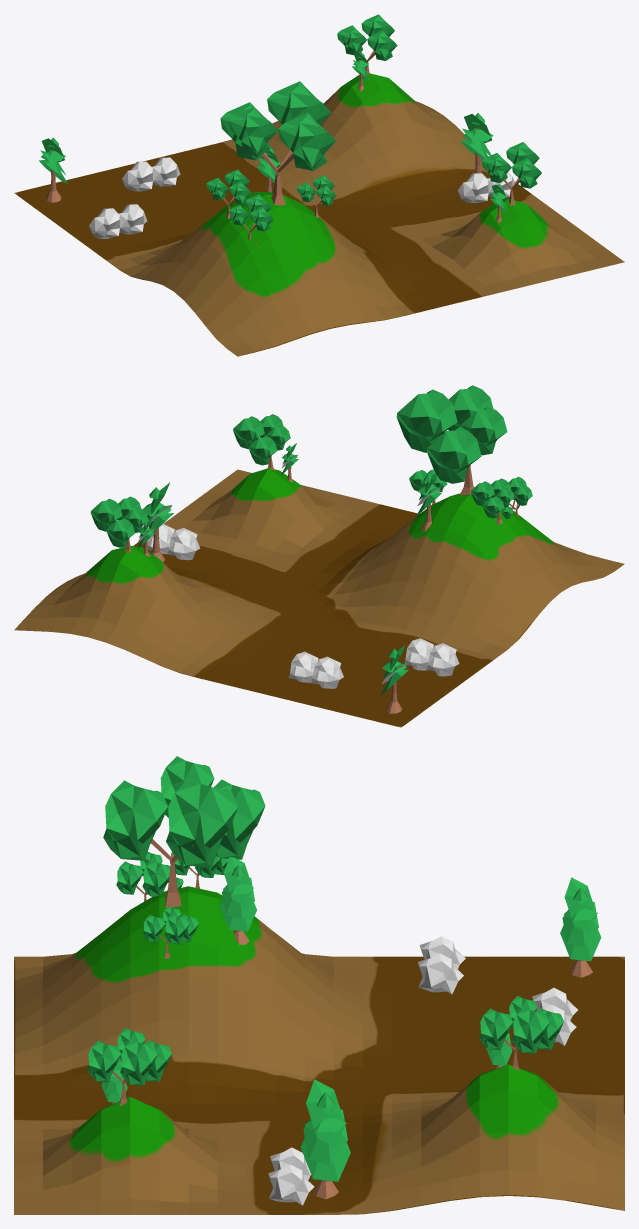
The model's file is lowpoly.glb.
The picture shows the model from 3 angles, top to bottom: view 1: azimuth 30°, elevation 25°; view 2: azimuth 150°, elevation 25°; view 3: azimuth 270°, elevation 25°; orthographic projection. The views are drawn at different scales.
Parts seen in each view (by area): view 1: Plane, Icosphere.008, Icosphere.007, Icosphere.010, Icosphere.003, Icosphere, Icosphere.005, Icosphere.009, Icosphere.002, Icosphere.012, Tree2.003; view 2: Plane, Icosphere.007, Icosphere.009, Icosphere.003, Icosphere, Icosphere.010, Icosphere.005, Icosphere.008, Icosphere.011, Icosphere.001, Icosphere.013, Icosphere.004; view 3: Plane, Icosphere.007, Icosphere.008, Icosphere.009, Icosphere.003, Icosphere.005, Icosphere.010, Cylinder.009, Icosphere.001, Icosphere.011, Icosphere, Icosphere.012 (+10 smaller).
Boxes of the visible parts, x1,y1,x2,y2 form: Plane: [14, 73, 624, 356]; Icosphere.008: [278, 112, 335, 170]; Icosphere.007: [267, 81, 331, 124]; Icosphere.010: [228, 107, 277, 156]; Icosphere.003: [89, 204, 147, 238]; Icosphere: [122, 157, 180, 191]; Icosphere.005: [457, 172, 514, 202]; Icosphere.009: [220, 102, 278, 160]; Icosphere.002: [367, 30, 397, 60]; Icosphere.012: [512, 158, 541, 188]; Tree2.003: [261, 150, 293, 205]; Plane: [14, 468, 624, 727]; Icosphere.007: [396, 389, 457, 452]; Icosphere.009: [427, 427, 481, 483]; Icosphere.003: [404, 638, 459, 676]; Icosphere: [288, 651, 343, 688]; Icosphere.010: [460, 407, 507, 455]; Icosphere.005: [147, 524, 200, 560]; Icosphere.008: [448, 385, 493, 430]; Icosphere.011: [233, 416, 264, 449]; Icosphere.001: [90, 498, 122, 531]; Icosphere.013: [249, 436, 277, 465]; Icosphere.004: [106, 518, 134, 547]; Plane: [14, 886, 624, 1214]; Icosphere.007: [166, 778, 237, 867]; Icosphere.008: [103, 780, 167, 860]; Icosphere.009: [214, 779, 265, 859]; Icosphere.003: [418, 936, 465, 994]; Icosphere.005: [268, 1147, 314, 1205]; Icosphere.010: [160, 756, 214, 817]; Cylinder.009: [306, 1079, 344, 1148]; Icosphere.001: [512, 1007, 549, 1053]; Icosphere.011: [120, 1039, 157, 1085]; Icosphere: [532, 987, 577, 1045]; Icosphere.012: [87, 1040, 120, 1082].
Size of the model in its own units: 300 by 145 by 300.
Materials: 2 (2 with a texture image).
